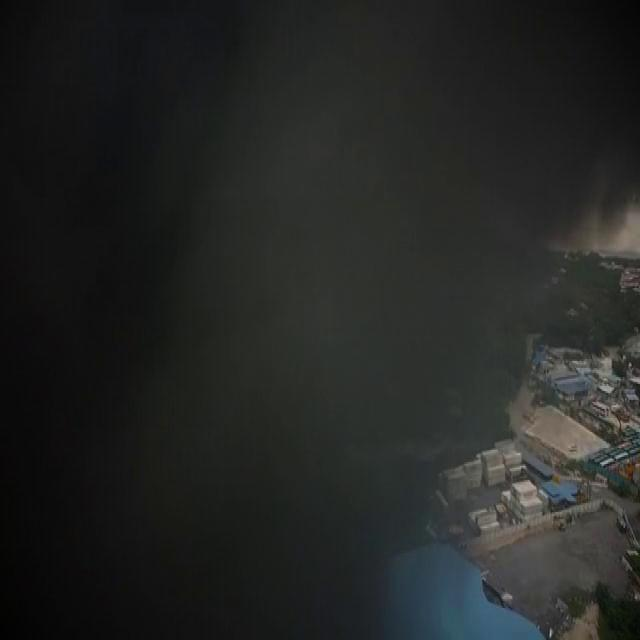smoke: (221, 0, 638, 231), (4, 280, 217, 640), (222, 247, 381, 640), (2, 8, 214, 272)
